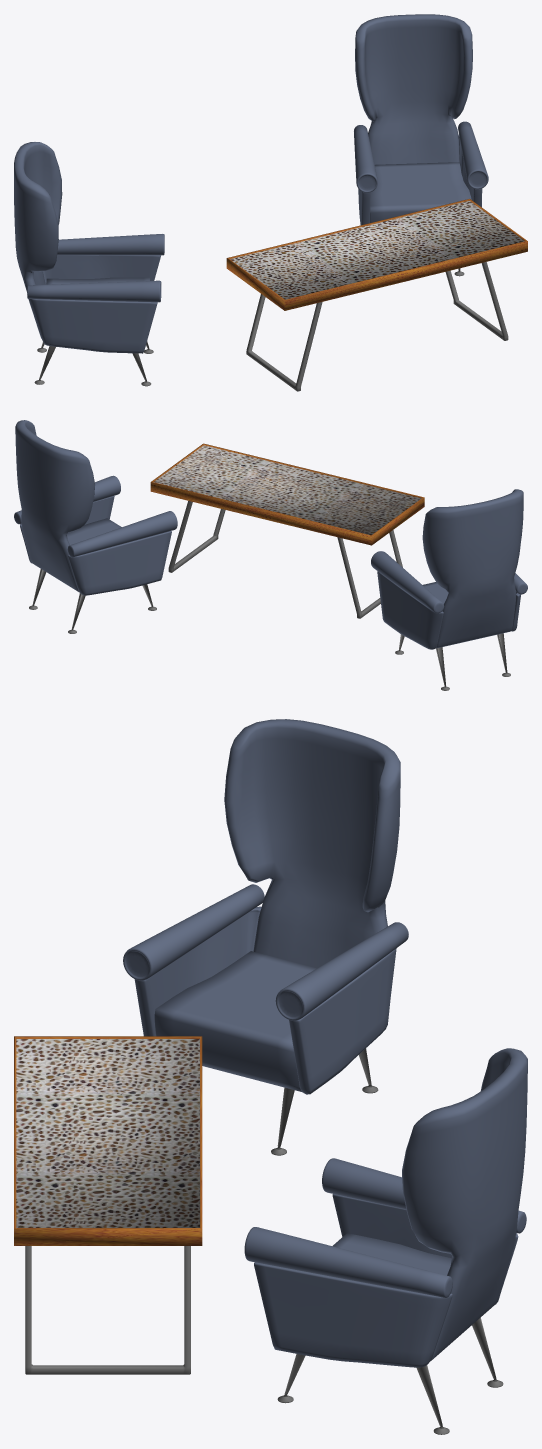
Rendered from armchair_and_table1.glb.
3 renders of one model, top to bottom at view 1: azimuth 30°, elevation 25°; view 2: azimuth 150°, elevation 25°; view 3: azimuth 270°, elevation 25°, orthographic. The views are drawn at different scales.
Parts seen in each view (by area): view 1: sillon_orejas_Cube.051, sillon_orejas.001_Cube.052, Cube.003_Cube.056, Cube.004_Cube.057, sillonrejas_pot.001_Tube.008; view 2: sillon_orejas.001_Cube.052, sillon_orejas_Cube.051, Cube.003_Cube.056, Cube.004_Cube.057, sillonrejas_pot.001_Tube.008, sillonrejas_pot_Tube.007; view 3: sillon_orejas.001_Cube.052, sillon_orejas_Cube.051, Cube.003_Cube.056, Cube.004_Cube.057, sillonrejas_pot_Tube.007, sillonrejas_pot.001_Tube.008.
Boxes of the visible parts, x1,y1,x2,y2 form: sillon_orejas_Cube.051: [354, 14, 488, 225]; sillon_orejas.001_Cube.052: [14, 142, 164, 353]; Cube.003_Cube.056: [226, 199, 527, 310]; Cube.004_Cube.057: [246, 262, 508, 391]; sillonrejas_pot.001_Tube.008: [34, 341, 153, 386]; sillon_orejas.001_Cube.052: [371, 489, 527, 649]; sillon_orejas_Cube.051: [14, 420, 177, 595]; Cube.003_Cube.056: [150, 443, 424, 545]; Cube.004_Cube.057: [168, 501, 402, 618]; sillonrejas_pot.001_Tube.008: [395, 633, 510, 690]; sillonrejas_pot_Tube.007: [29, 569, 156, 633]; sillon_orejas.001_Cube.052: [123, 719, 408, 1094]; sillon_orejas_Cube.051: [244, 1048, 527, 1367]; Cube.003_Cube.056: [14, 1036, 202, 1245]; Cube.004_Cube.057: [25, 1246, 190, 1374]; sillonrejas_pot_Tube.007: [277, 1317, 503, 1434]; sillonrejas_pot.001_Tube.008: [271, 1048, 378, 1155].
Bounding box in the file's own units: 2.57 × 1 × 1.4.
Materials: 6 (2 with a texture image).
